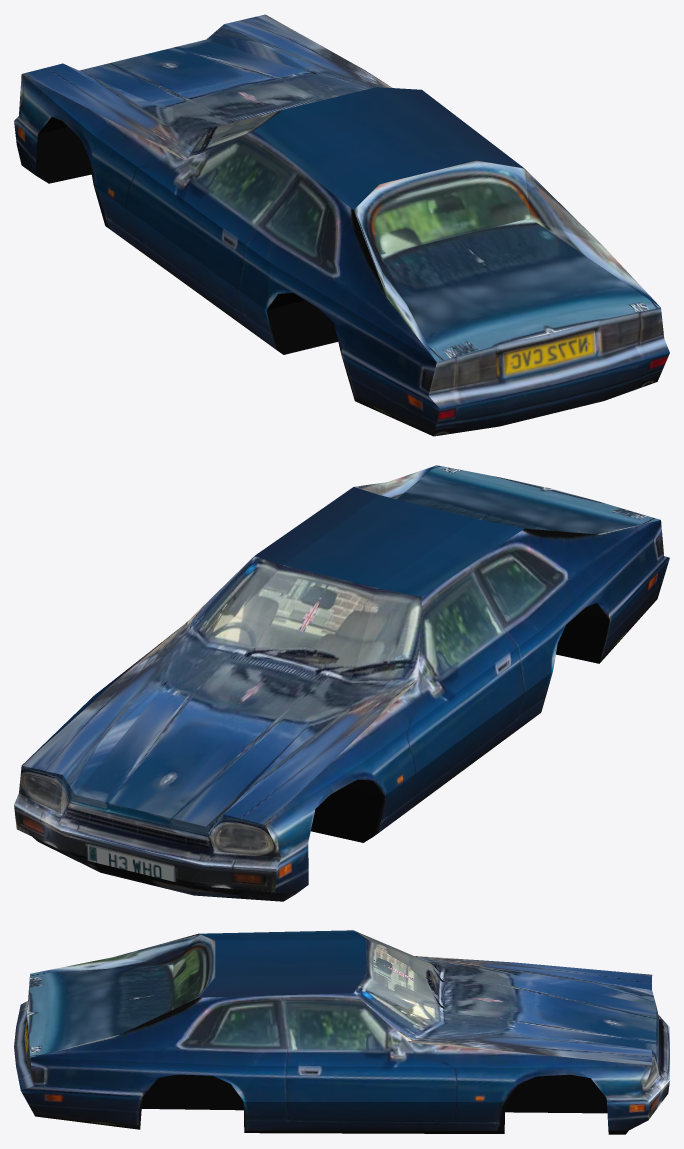
Rendered from xjs.glb.
3 renders of one model, top to bottom at view 1: azimuth 30°, elevation 25°; view 2: azimuth 150°, elevation 25°; view 3: azimuth 270°, elevation 25°, orthographic. The views are drawn at different scales.
Visible parts, largest first — view 1: Cube; view 2: Cube; view 3: Cube.
Boxes of the visible parts, <box> form: Cube: <box>14,14,669,436</box>; Cube: <box>14,465,669,901</box>; Cube: <box>14,930,669,1134</box>.
Size of the model in its own units: 1.93 by 1.1 by 4.91.
1 material, 1 textured.
